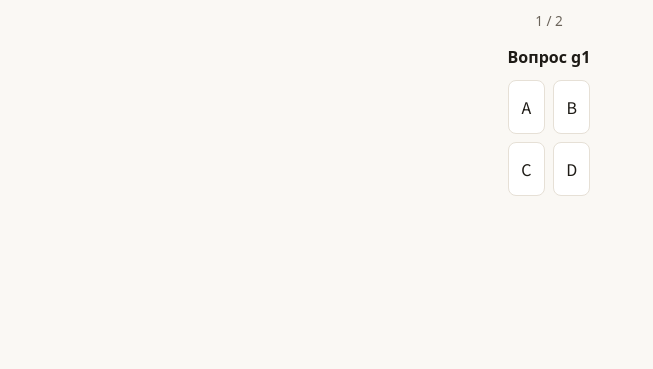
Test case: MiniTestScreen › walks the questions, scores them, and never writes to FSRS
Expected: the text "Вопрос g1" is shown, [508,46,590,68]
Step 1. Click the button "A" → (526, 107), box [508,80,545,134]
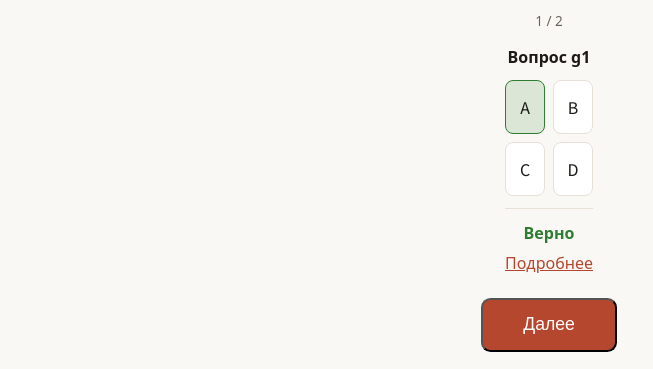
Step 2. Click the button "Далее" → (549, 325), box [481,298,617,352]
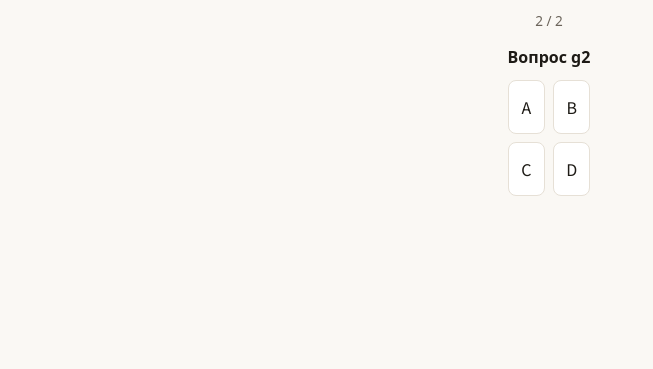
Step 3. Click the button "B" → (572, 107), box [553,80,590,134]
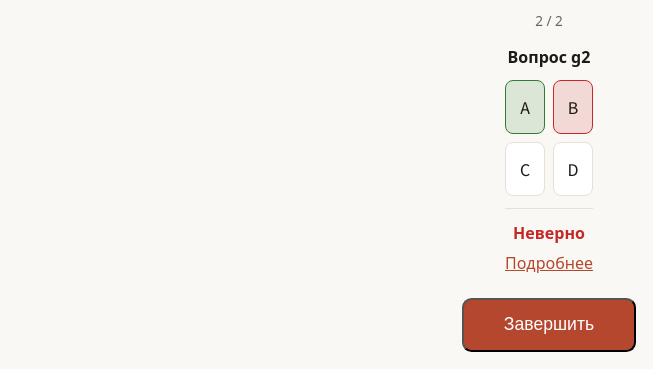
Step 4. Click the button "Завершить" → (549, 325), box [462,298,636,352]
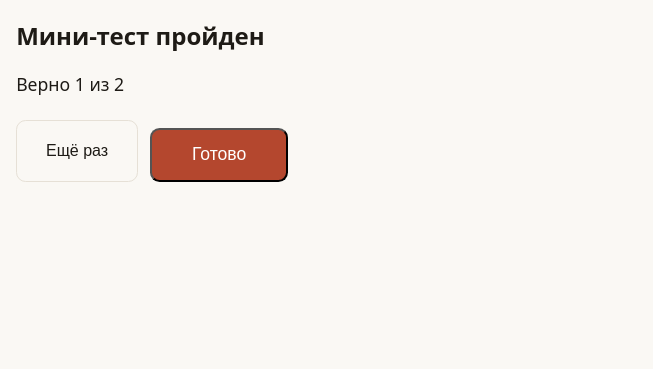
Expected: the text "Верно 1 из 2" is shown, [16,72,124,96]
